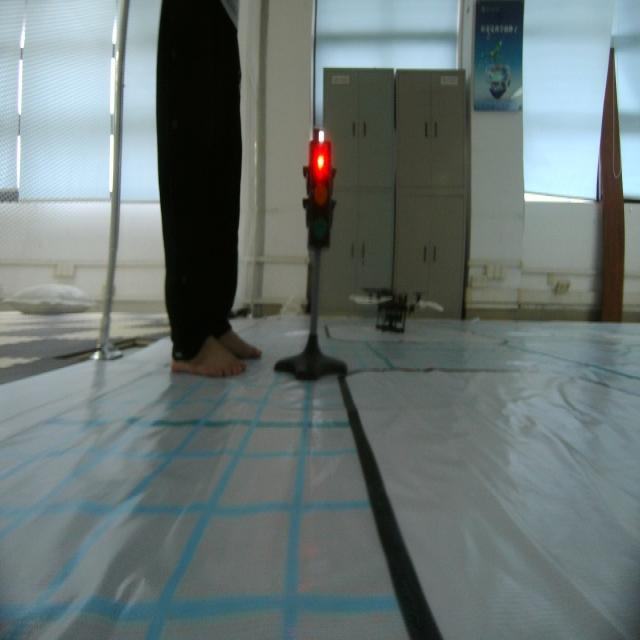red: (307, 133, 335, 255)
